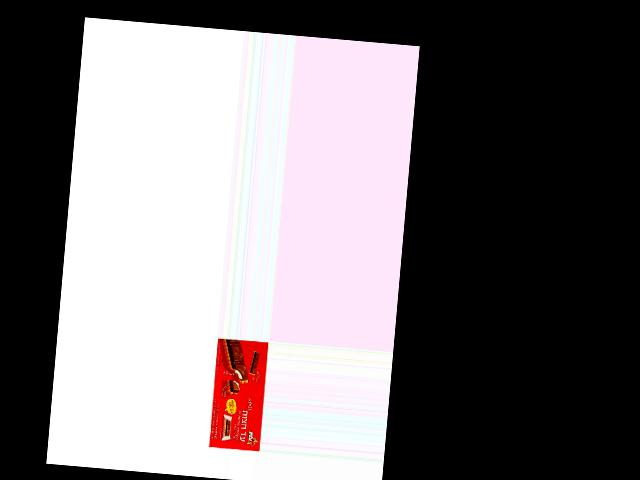chocolate: (208, 337, 269, 453)
